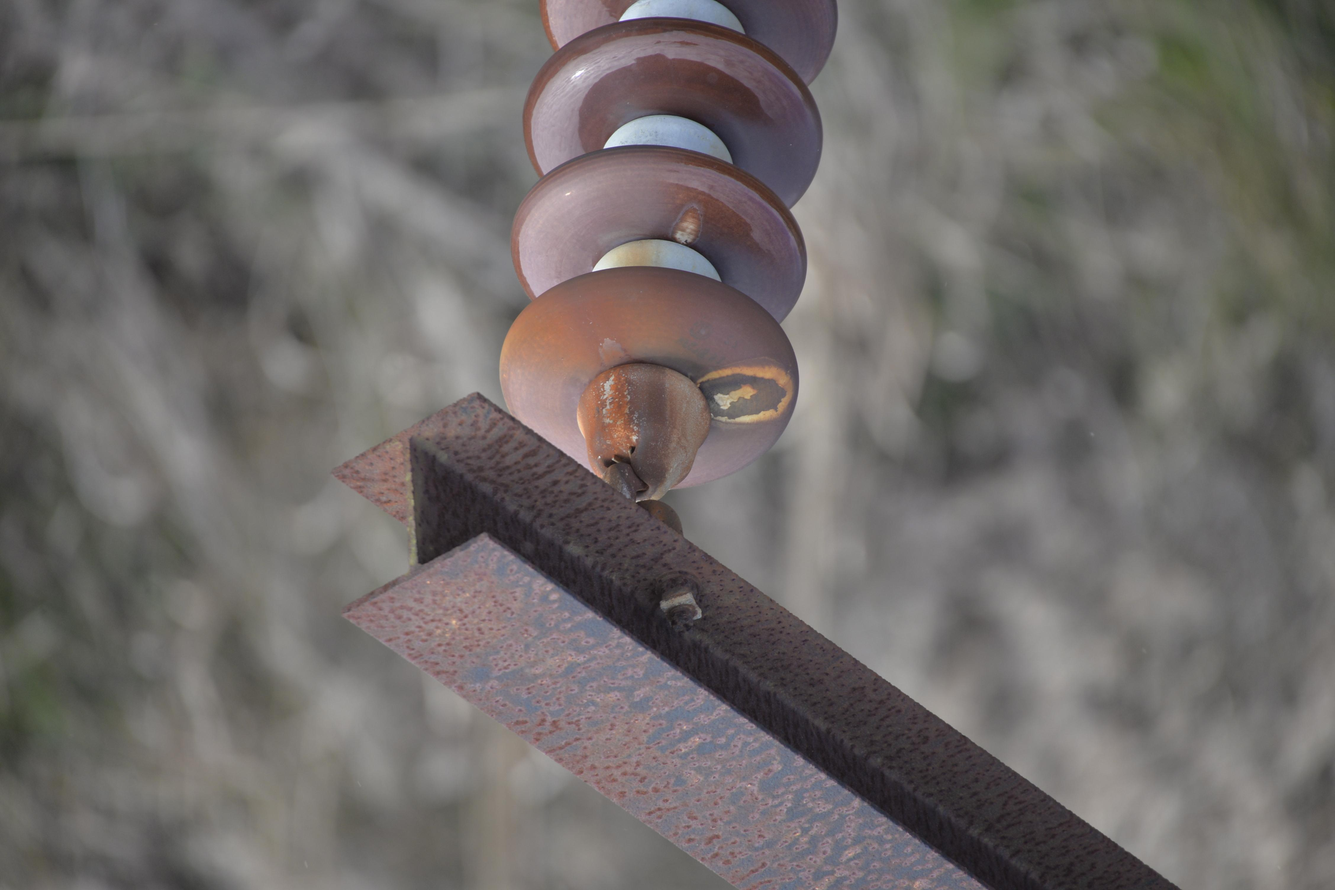Flashover: (689, 358, 797, 433), (670, 195, 713, 251)
insulator: (499, 0, 841, 484)
